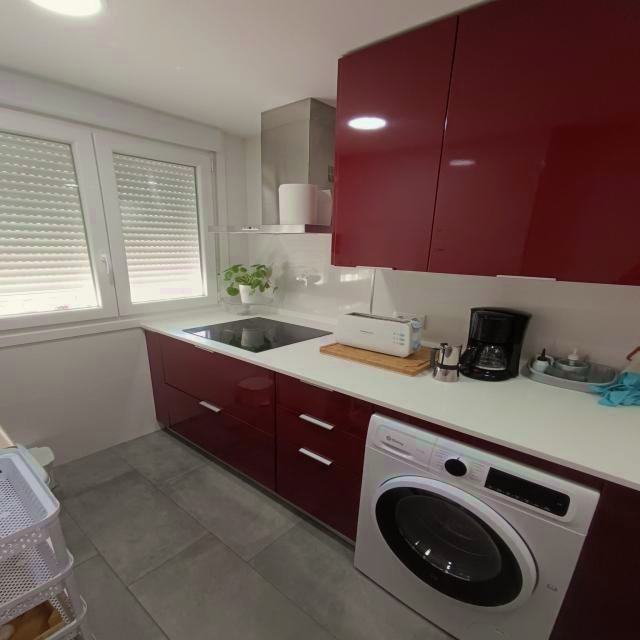cabinet: (330, 0, 640, 287), (144, 331, 382, 541), (549, 482, 640, 640)
countertop: (142, 308, 640, 485)
sofa: (182, 317, 333, 354)
